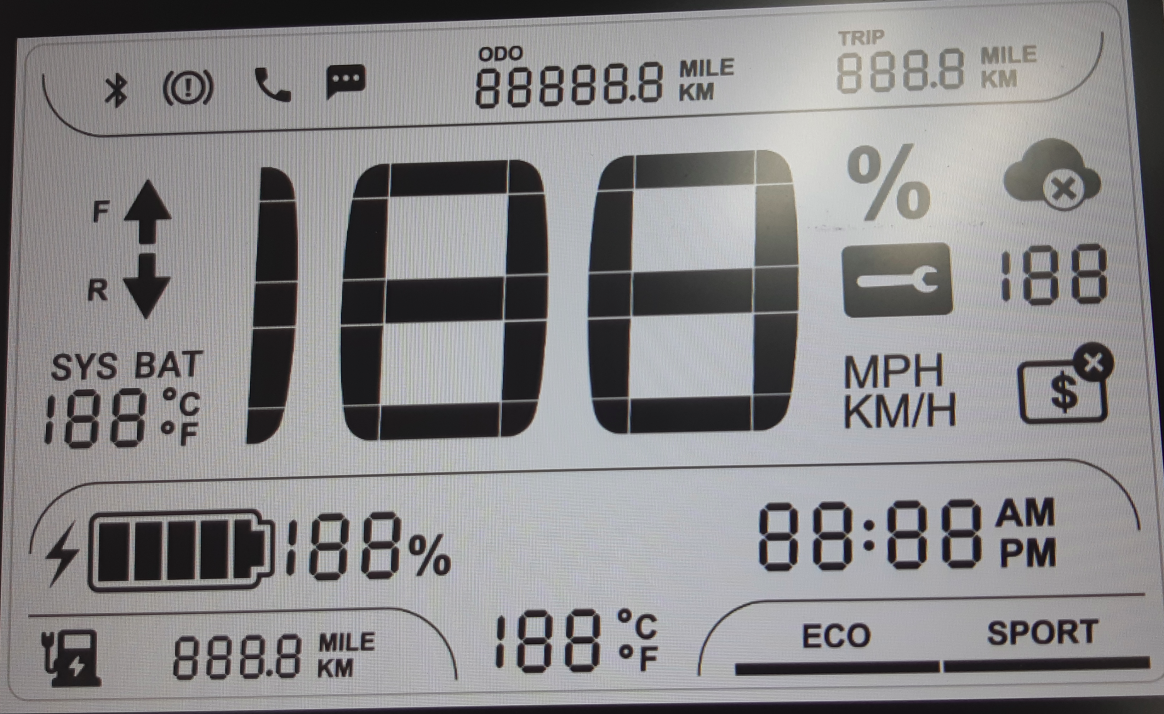bluetooth_on: (97, 68, 136, 113)
braking_on: (158, 64, 217, 109)
calling_on: (250, 61, 298, 108)
connection_lost: (998, 133, 1106, 216)
error_code: (835, 238, 958, 320)
low_battery: (36, 623, 109, 693)
sms_on: (319, 60, 371, 104)
vin_id: (1012, 337, 1119, 429)
